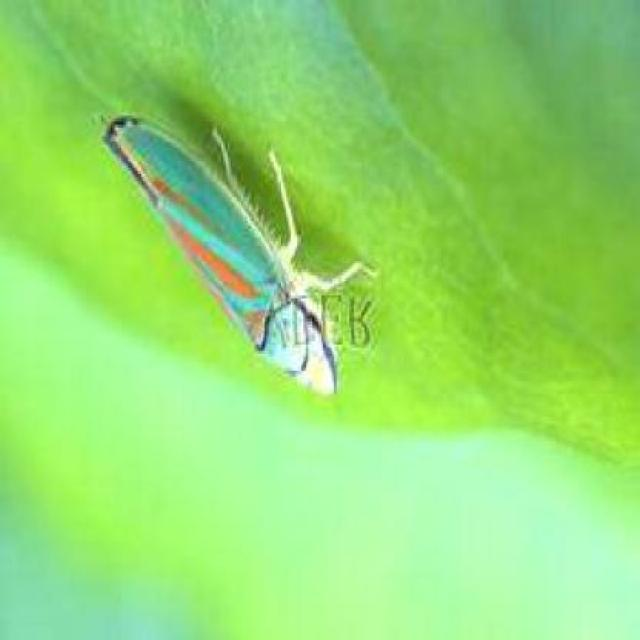green-leafhopper: (98, 110, 357, 396)
